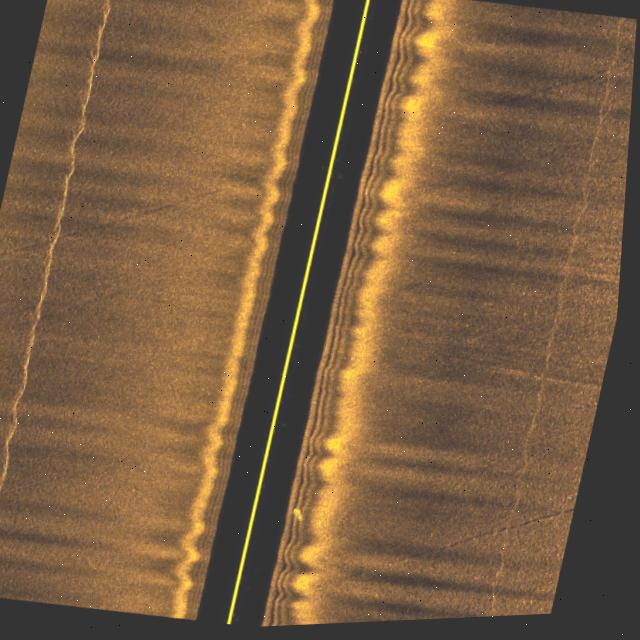mine: (298, 506, 314, 529)
